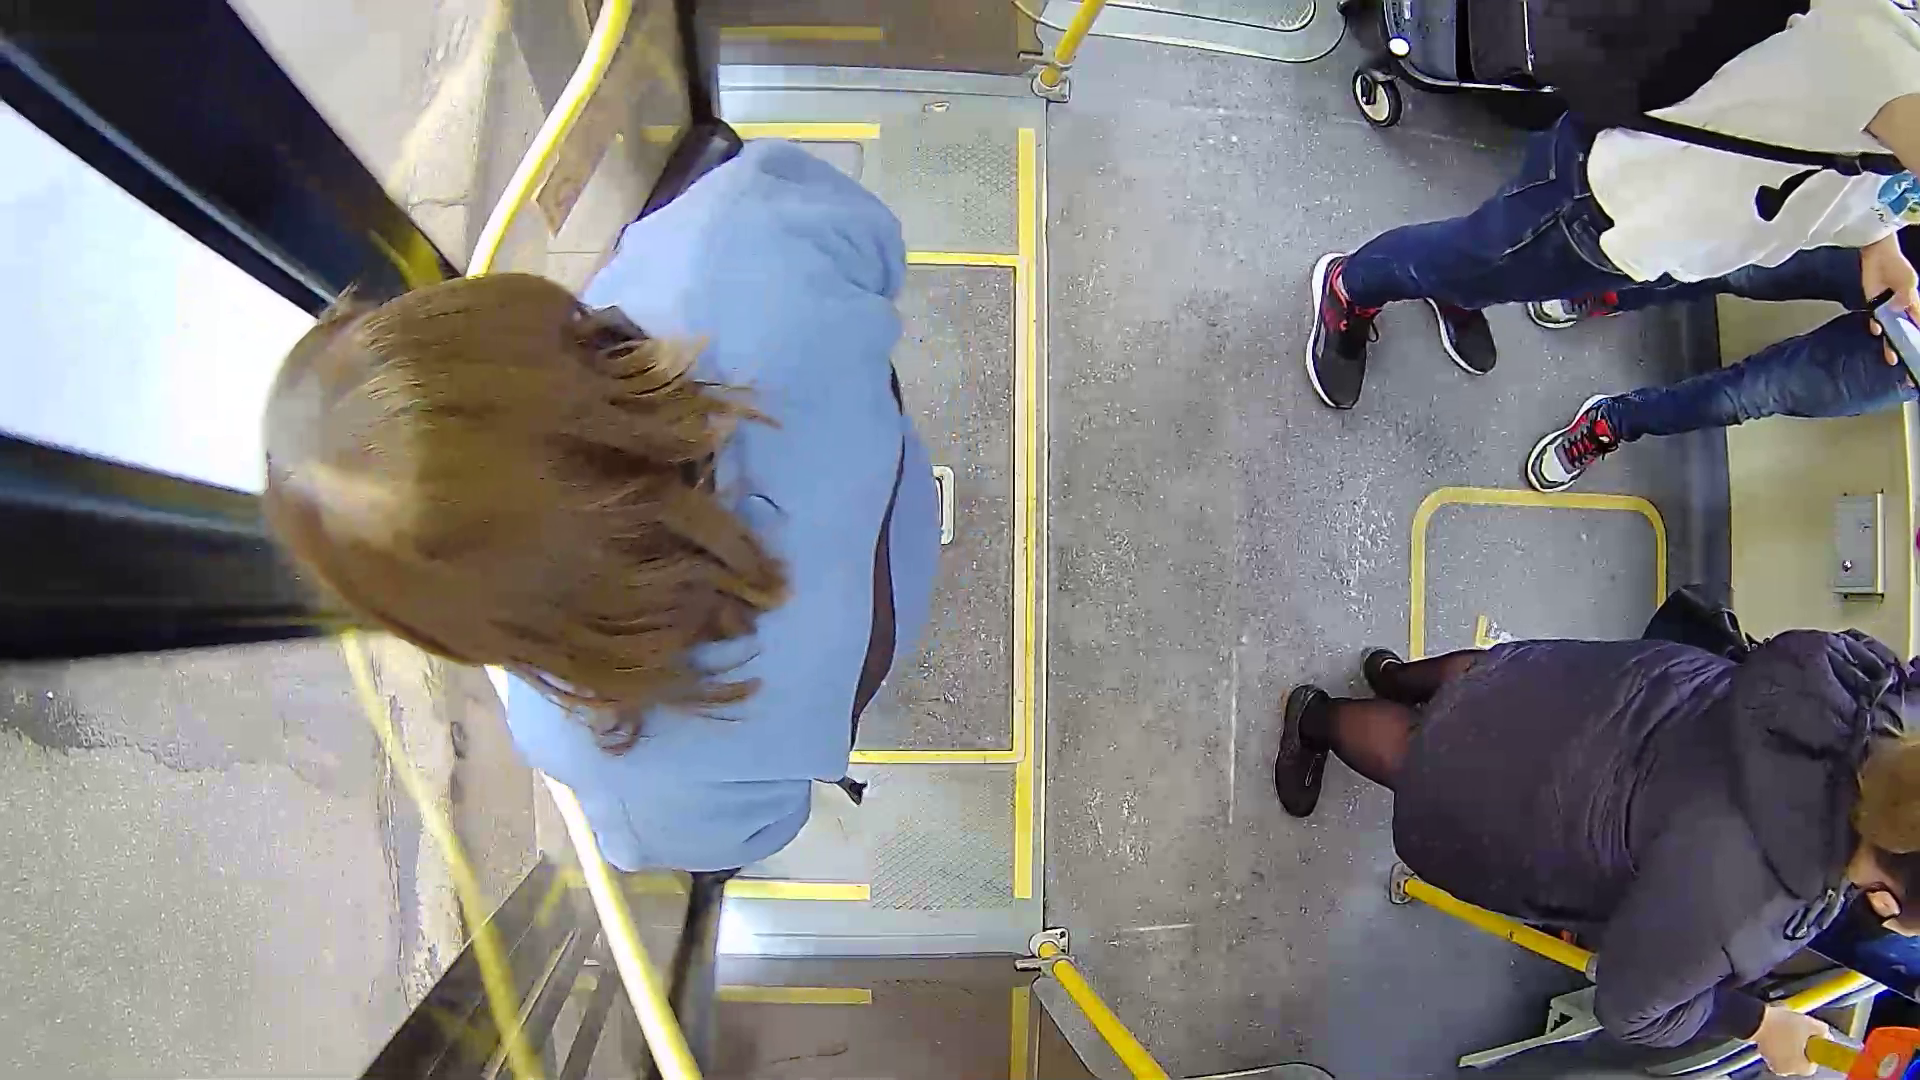person: (229, 188, 1037, 865)
